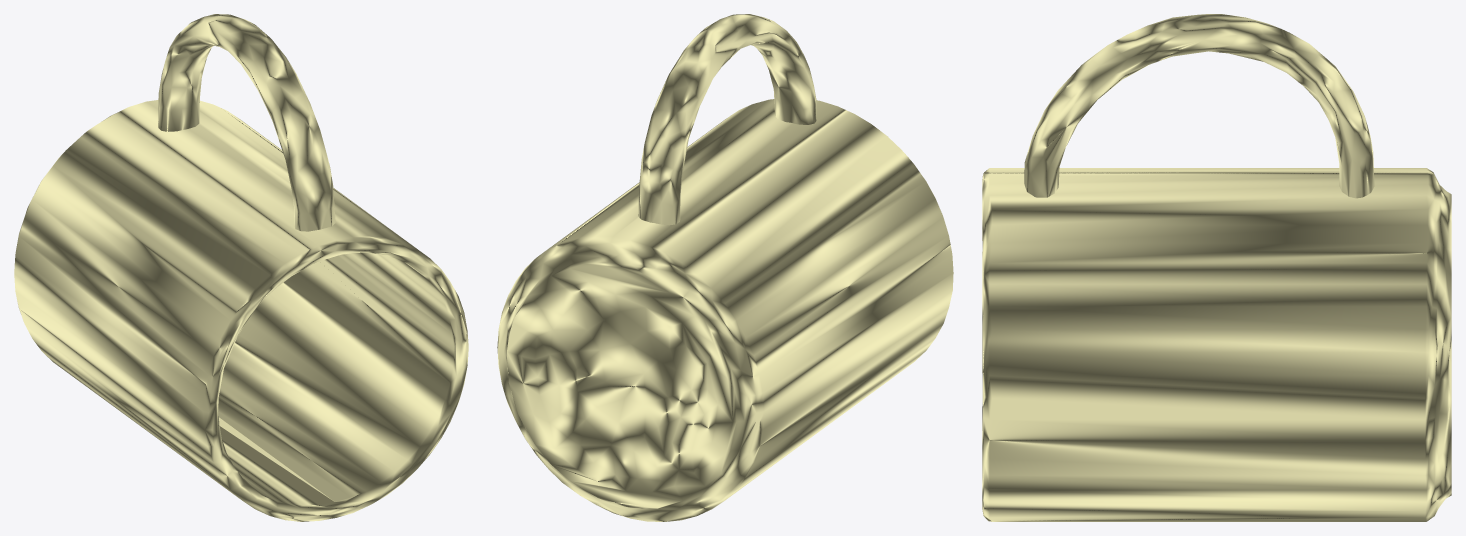
The model's file is model_align.obj.
The picture shows the model from 3 angles, left to right: view 1: azimuth 30°, elevation 25°; view 2: azimuth 150°, elevation 25°; view 3: azimuth 270°, elevation 25°; orthographic projection. The views are drawn at different scales.
Size of the model in its own units: 0.0716 by 0.1091 by 0.0948.
